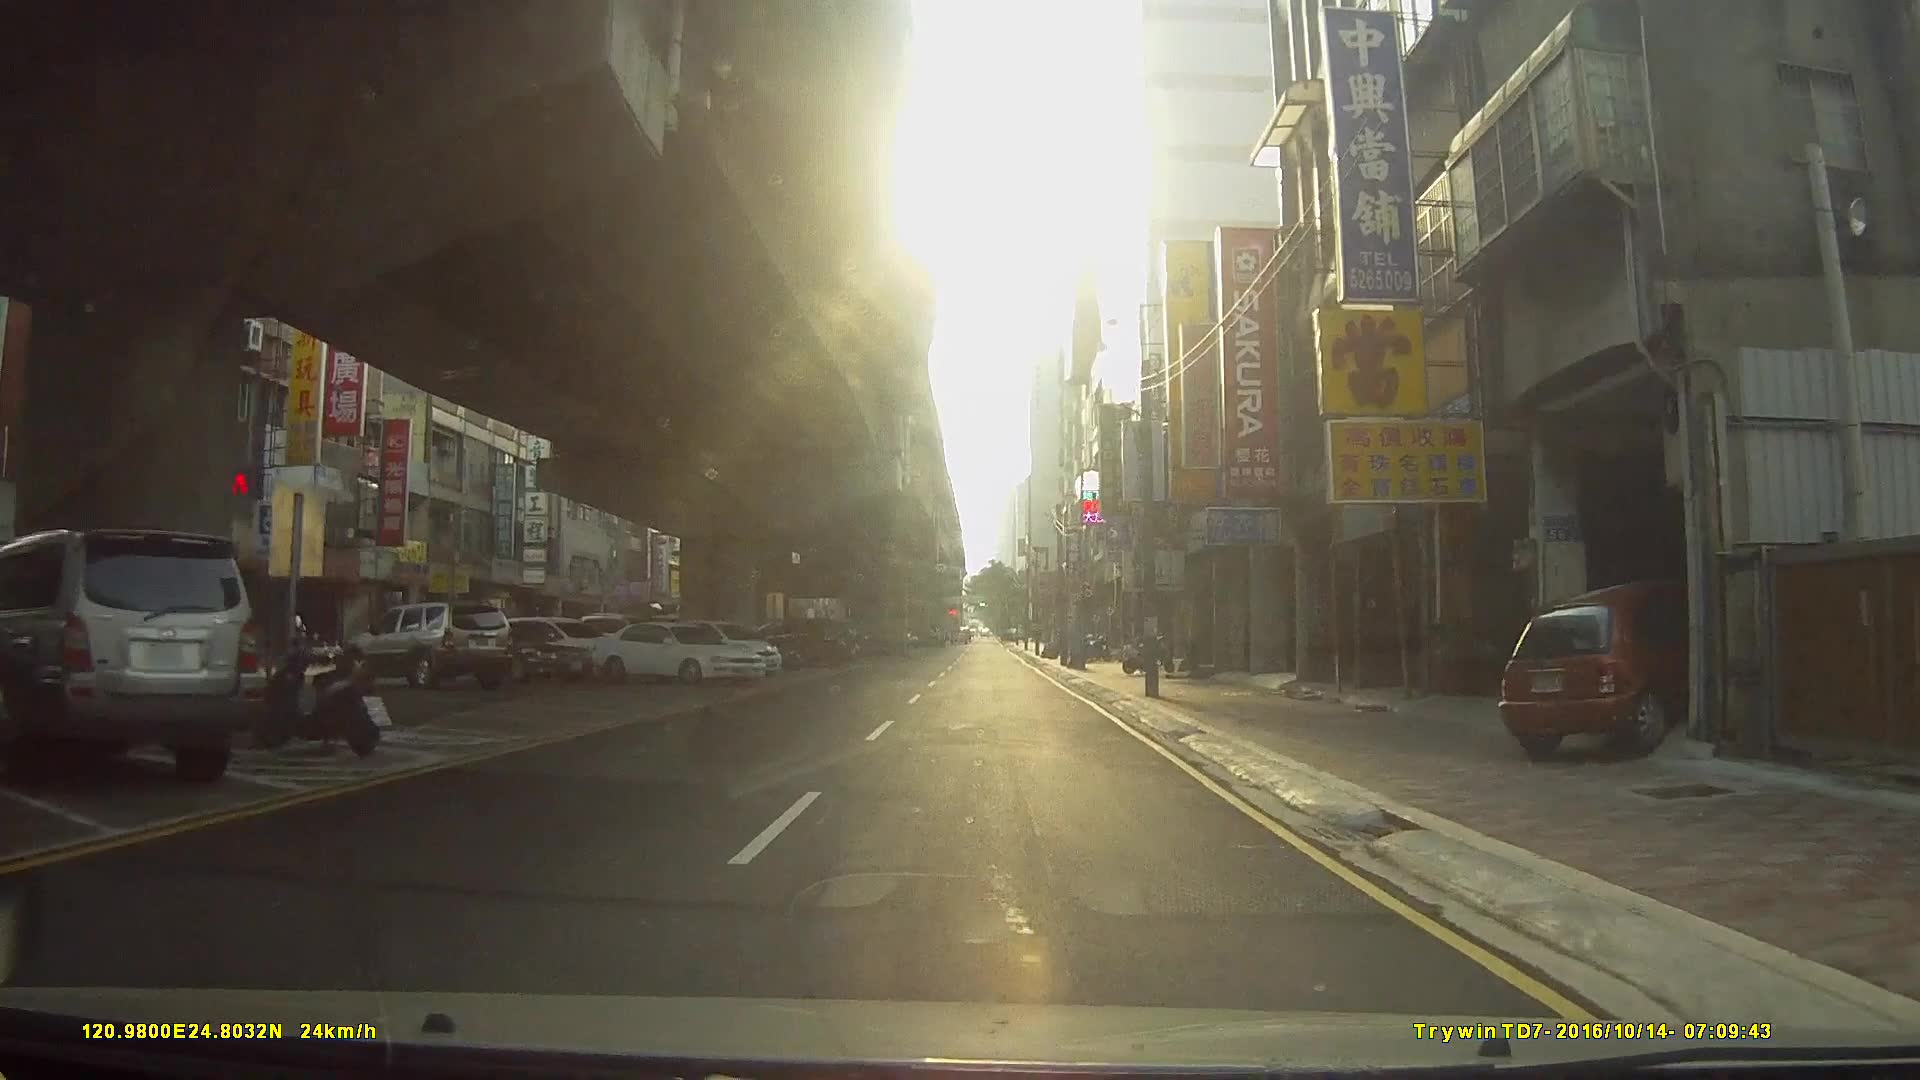vehicle: (0, 529, 262, 789), (1498, 575, 1727, 760), (339, 599, 514, 688), (418, 616, 593, 684), (588, 622, 769, 686)
